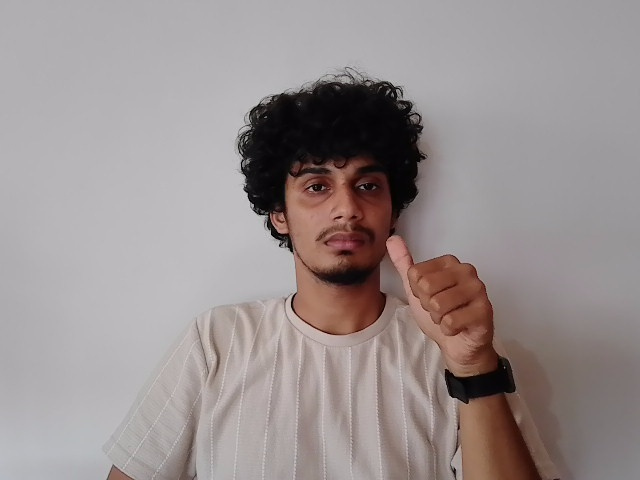drink: (265, 154, 504, 352)
